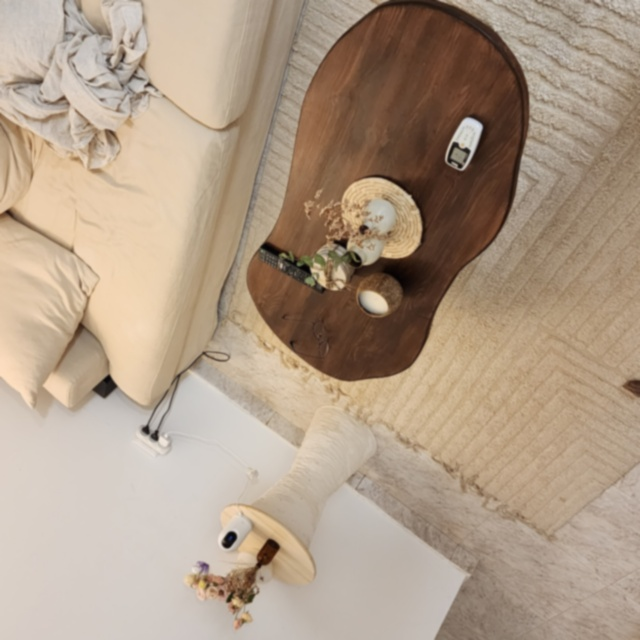glasses: (279, 309, 335, 359)
